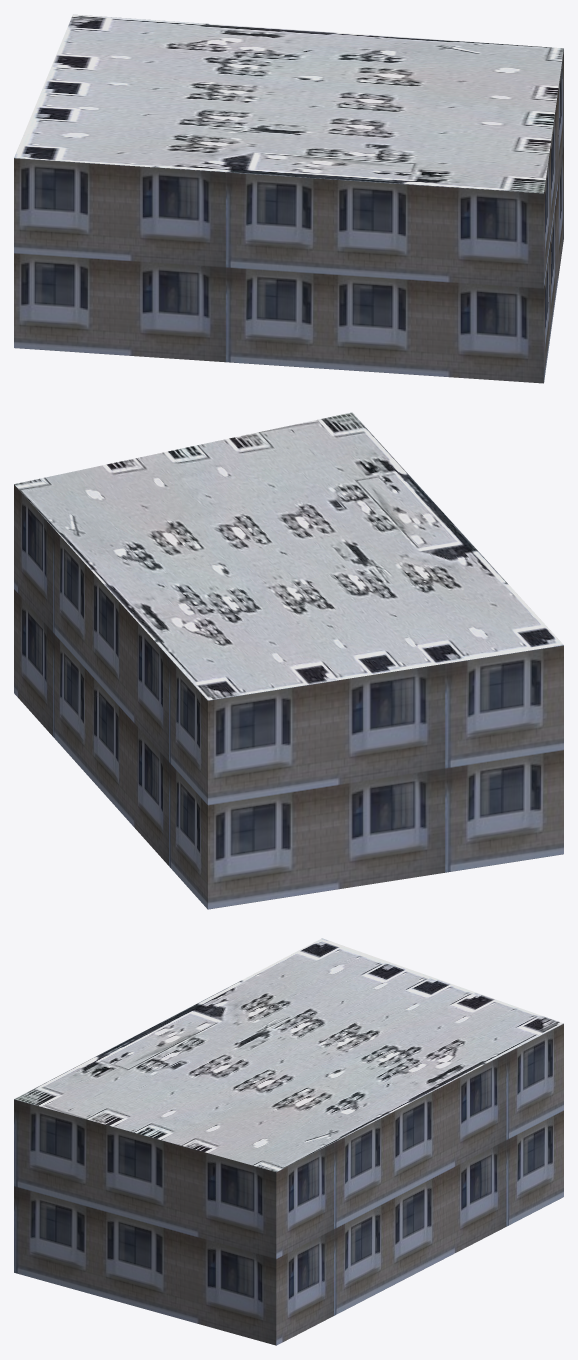
Rendered from ResTex__2151.fbx.
3 renders of one model, top to bottom at view 1: azimuth 30°, elevation 25°; view 2: azimuth 150°, elevation 25°; view 3: azimuth 270°, elevation 25°, orthographic. The views are drawn at different scales.
Visible parts, largest first — view 1: CityEngineMaterial_3_m, CityEngineMaterial_4_m; view 2: CityEngineMaterial_3_m, CityEngineMaterial_4_m; view 3: CityEngineMaterial_3_m, CityEngineMaterial_4_m.
Boxes of the visible parts, x1,y1,x2,y2 form: CityEngineMaterial_3_m: [14, 50, 563, 383]; CityEngineMaterial_4_m: [14, 14, 563, 193]; CityEngineMaterial_3_m: [14, 484, 563, 909]; CityEngineMaterial_4_m: [14, 412, 563, 700]; CityEngineMaterial_3_m: [14, 1023, 563, 1345]; CityEngineMaterial_4_m: [14, 938, 563, 1171].
Size of the model in its own units: 17.34 by 6 by 17.24.
Materials: 2 (2 with a texture image).
